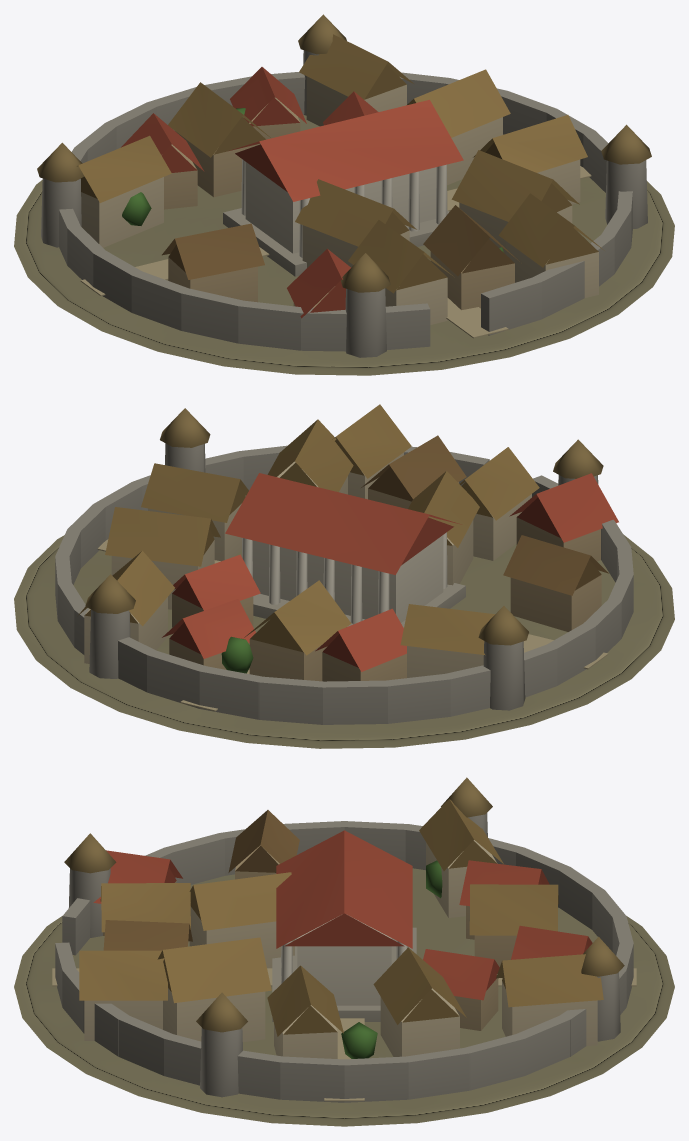
Rendered from settlement_1_2.glb.
3 views of the same model, one above another, from view 1: azimuth 30°, elevation 25°; view 2: azimuth 150°, elevation 25°; view 3: azimuth 270°, elevation 25° (orthographic).
Visible parts, largest first — view 1: part_0; view 2: part_0; view 3: part_0.
Boxes of the visible parts, bbox=[...] form: part_0: bbox=[14, 14, 674, 375]; part_0: bbox=[14, 404, 674, 748]; part_0: bbox=[14, 777, 674, 1126].
Size of the model in its own units: 32.8 by 6.31 by 32.8.
